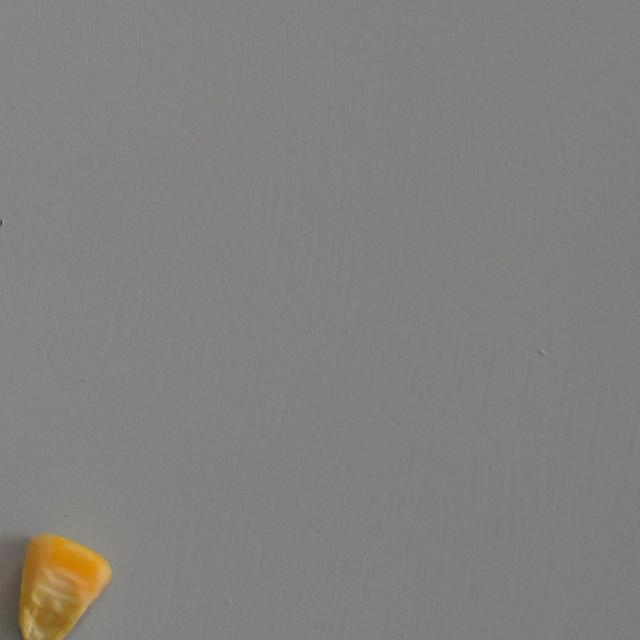entero: (12, 526, 116, 640)
